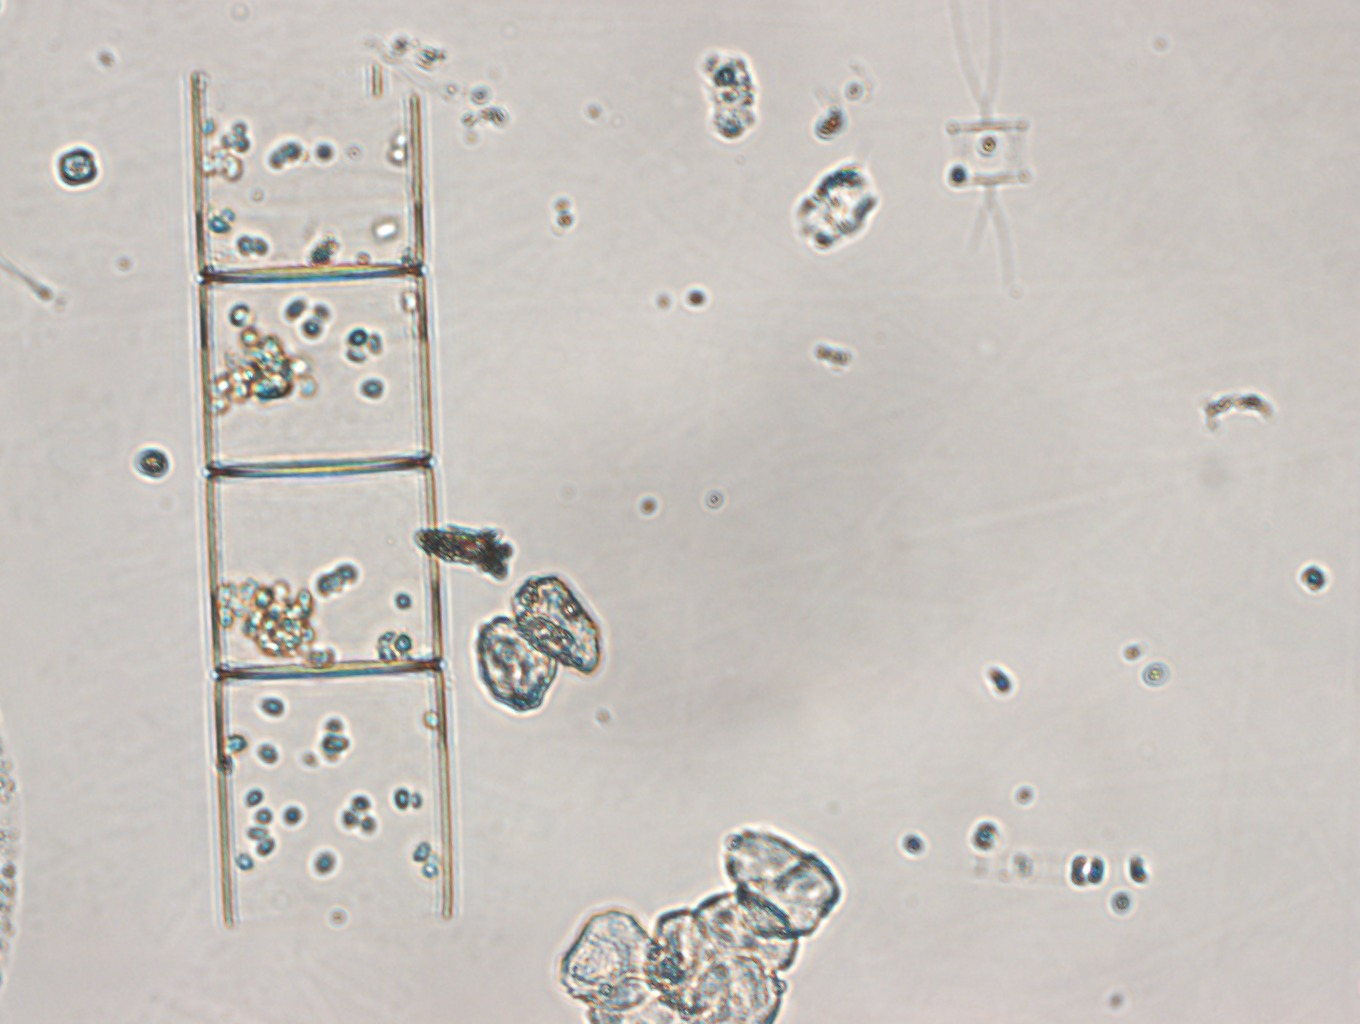chaetoceros: (936, 15, 1042, 279)
guinardia flaccida: (181, 73, 459, 926)
